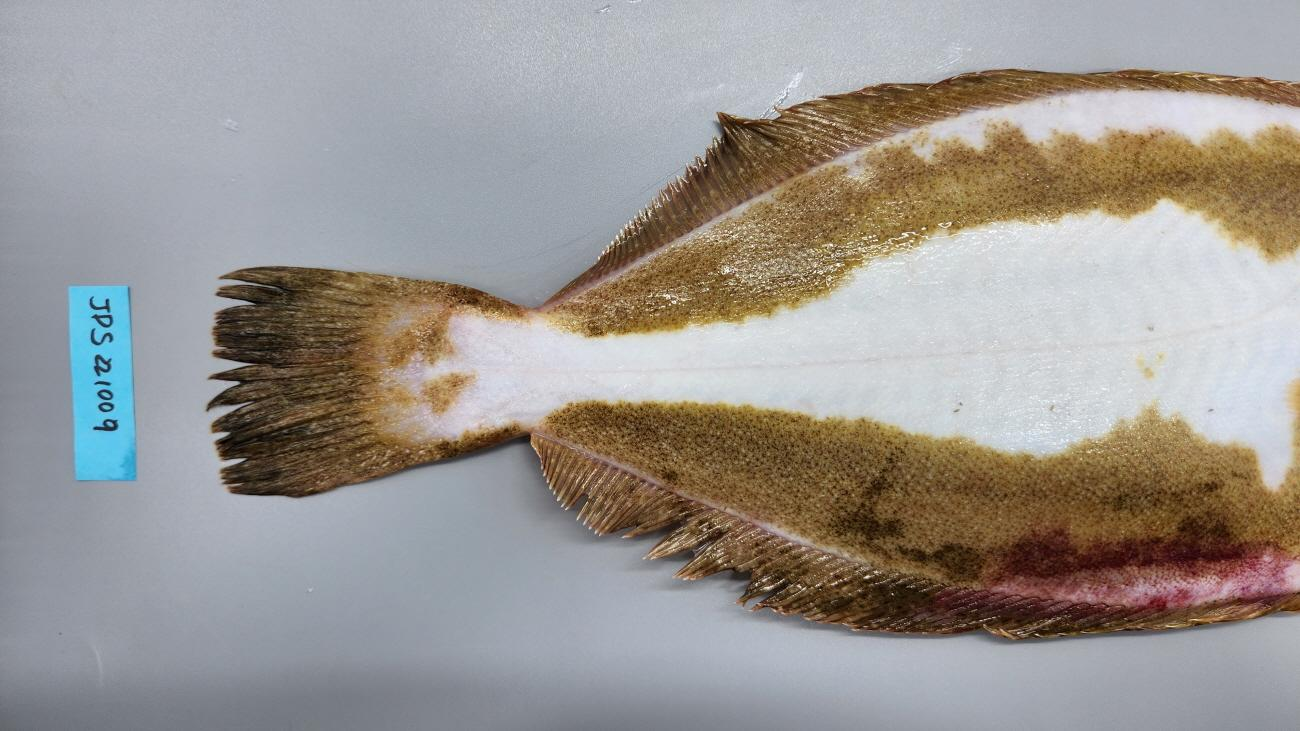POOUN: (205, 66, 1300, 642)
